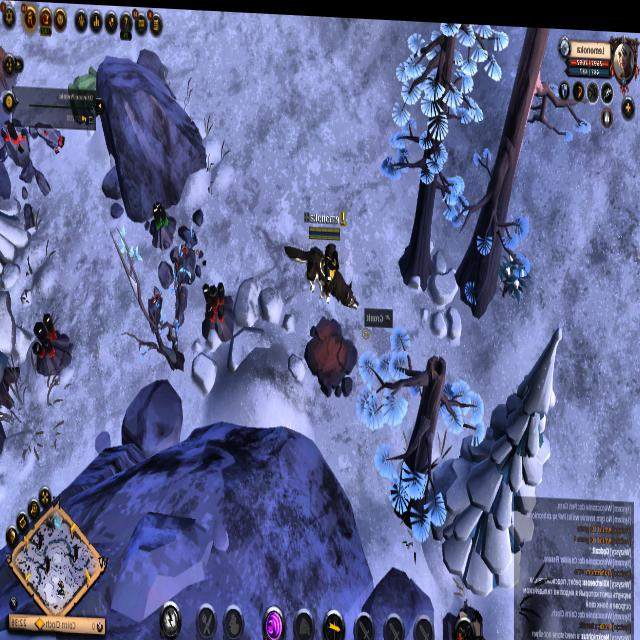fiber tier 4: (496, 243, 530, 296)
ore tier 3: (148, 194, 176, 251)
ore tier 5: (31, 309, 71, 379), (200, 274, 232, 346)
